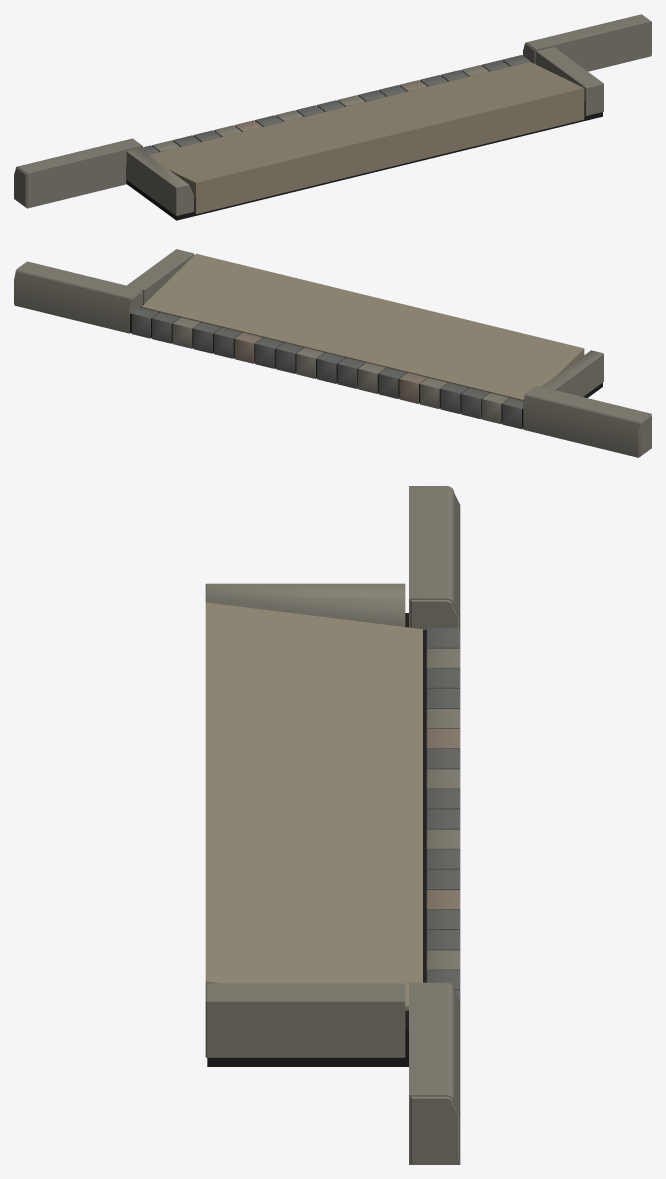
The model's file is crossover_A.glb.
3 renders of one model, top to bottom at view 1: azimuth 30°, elevation 25°; view 2: azimuth 150°, elevation 25°; view 3: azimuth 270°, elevation 25°, orthographic. The views are drawn at different scales.
Visible parts, largest first — view 1: ramp, end_block_l, end_block_r, flank_l, lip_granite_blue_grey, flank_r, bed, lip_granite_grey, lip_granite_pink_grey; view 2: ramp, lip_granite_blue_grey, end_block_l, end_block_r, lip_granite_grey, flank_l, flank_r, lip_granite_pink_grey, bed; view 3: ramp, flank_r, end_block_r, lip_granite_blue_grey, end_block_l, flank_l, lip_granite_grey, bed, lip_granite_pink_grey.
Part boxes in pixels (left/top/right/bottom): ramp: left=149, top=62, right=584, bottom=214; end_block_l: left=14, top=138, right=142, bottom=208; end_block_r: left=523, top=14, right=651, bottom=71; flank_l: left=126, top=148, right=194, bottom=215; lip_granite_blue_grey: left=143, top=55, right=529, bottom=154; flank_r: left=536, top=47, right=603, bottom=115; bed: left=126, top=61, right=602, bottom=220; lip_granite_grey: left=152, top=65, right=488, bottom=151; lip_granite_pink_grey: left=234, top=80, right=426, bottom=131; ramp: left=141, top=253, right=584, bottom=400; lip_granite_blue_grey: left=131, top=307, right=523, bottom=429; end_block_l: left=523, top=385, right=651, bottom=457; end_block_r: left=14, top=261, right=142, bottom=333; lip_granite_grey: left=172, top=317, right=509, bottom=423; flank_l: left=541, top=350, right=603, bottom=396; flank_r: left=127, top=249, right=194, bottom=303; lip_granite_pink_grey: left=234, top=332, right=426, bottom=403; bed: left=130, top=304, right=602, bottom=428; ramp: left=205, top=602, right=422, bottom=1010; flank_r: left=205, top=983, right=405, bottom=1057; end_block_r: left=409, top=982, right=460, bottom=1164; lip_granite_blue_grey: left=426, top=628, right=460, bottom=1001; end_block_l: left=409, top=486, right=460, bottom=629; flank_l: left=205, top=583, right=405, bottom=626; lip_granite_grey: left=426, top=648, right=460, bottom=970; bed: left=207, top=613, right=426, bottom=1066; lip_granite_pink_grey: left=426, top=729, right=460, bottom=909.
Bounding box in the file's own units: 4.8 × 0.255 × 0.845.
